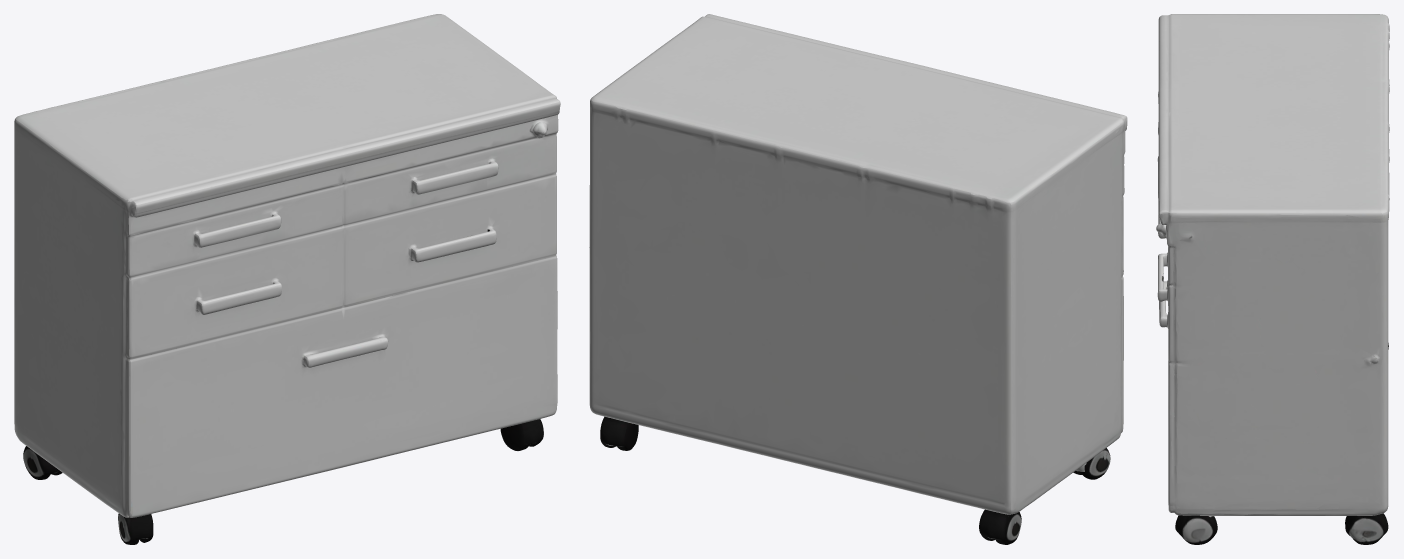
The model's file is cabinet.glb.
3 views of the same model, side by side, from view 1: azimuth 30°, elevation 25°; view 2: azimuth 150°, elevation 25°; view 3: azimuth 270°, elevation 25° (orthographic). The views are drawn at different scales.
Parts seen in each view (by area): view 1: masked_object_iter1_canonical_mesh.obj; view 2: masked_object_iter1_canonical_mesh.obj; view 3: masked_object_iter1_canonical_mesh.obj.
Part boxes in pixels (x1,y1,x2,y2): masked_object_iter1_canonical_mesh.obj: (14, 14, 560, 544); masked_object_iter1_canonical_mesh.obj: (589, 14, 1127, 544); masked_object_iter1_canonical_mesh.obj: (1156, 14, 1389, 544).
Bounding box in the file's own units: 0.6285 × 0.4962 × 0.3096.
1 material, 1 textured.
